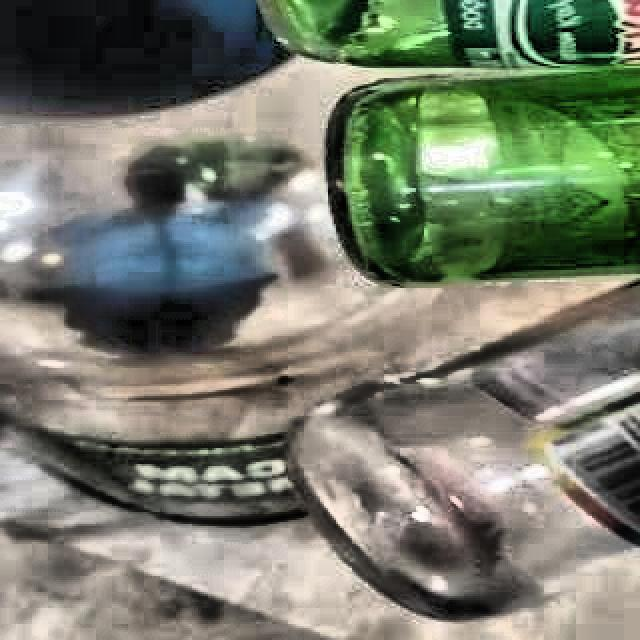glass: (260, 0, 640, 284)
